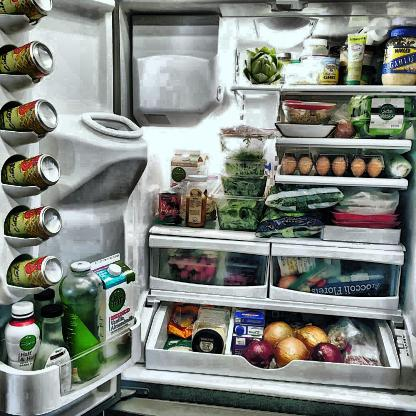eggs: (350, 158, 366, 176), (368, 158, 383, 176), (281, 156, 296, 173), (297, 157, 312, 174), (332, 156, 346, 174), (316, 157, 330, 175)
milk: (234, 312, 266, 333)
onion: (276, 338, 308, 358), (265, 322, 292, 342), (297, 326, 327, 343)
red_onion: (243, 340, 273, 361), (313, 342, 343, 361)
